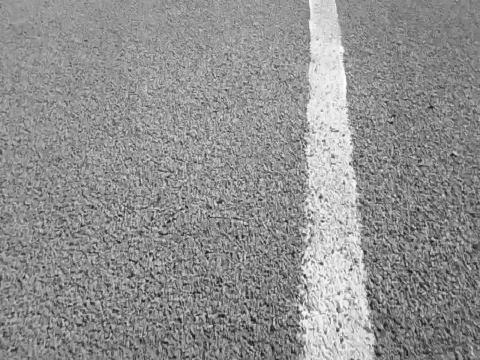Lines: (306, 0, 378, 360)
